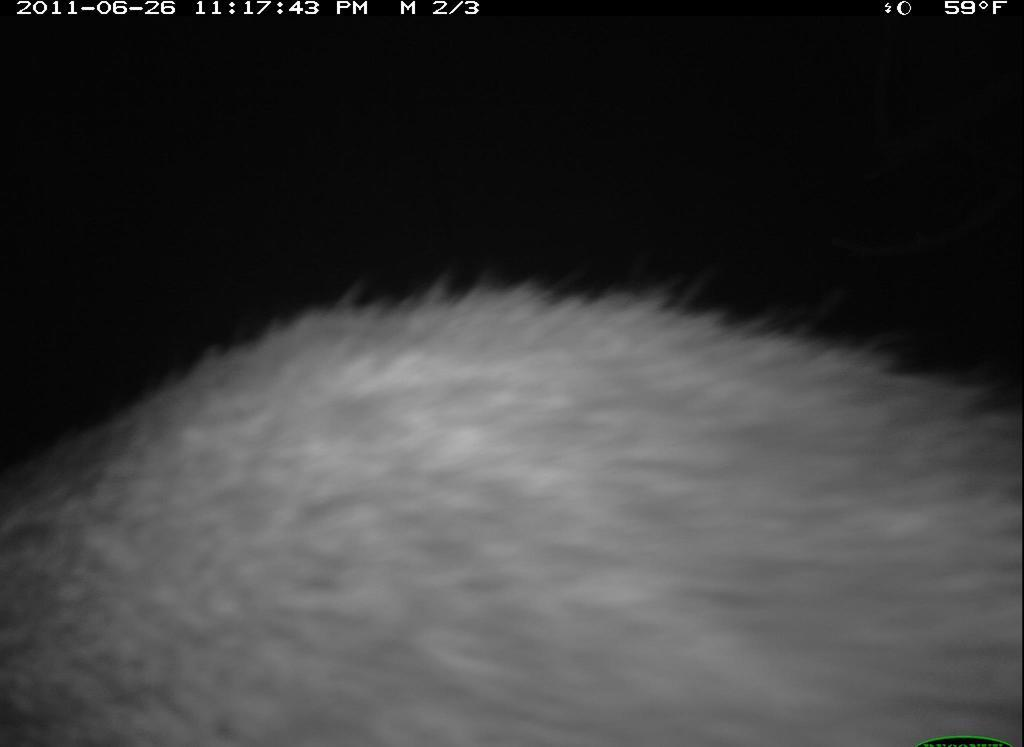raccoon: (6, 259, 1024, 747)
